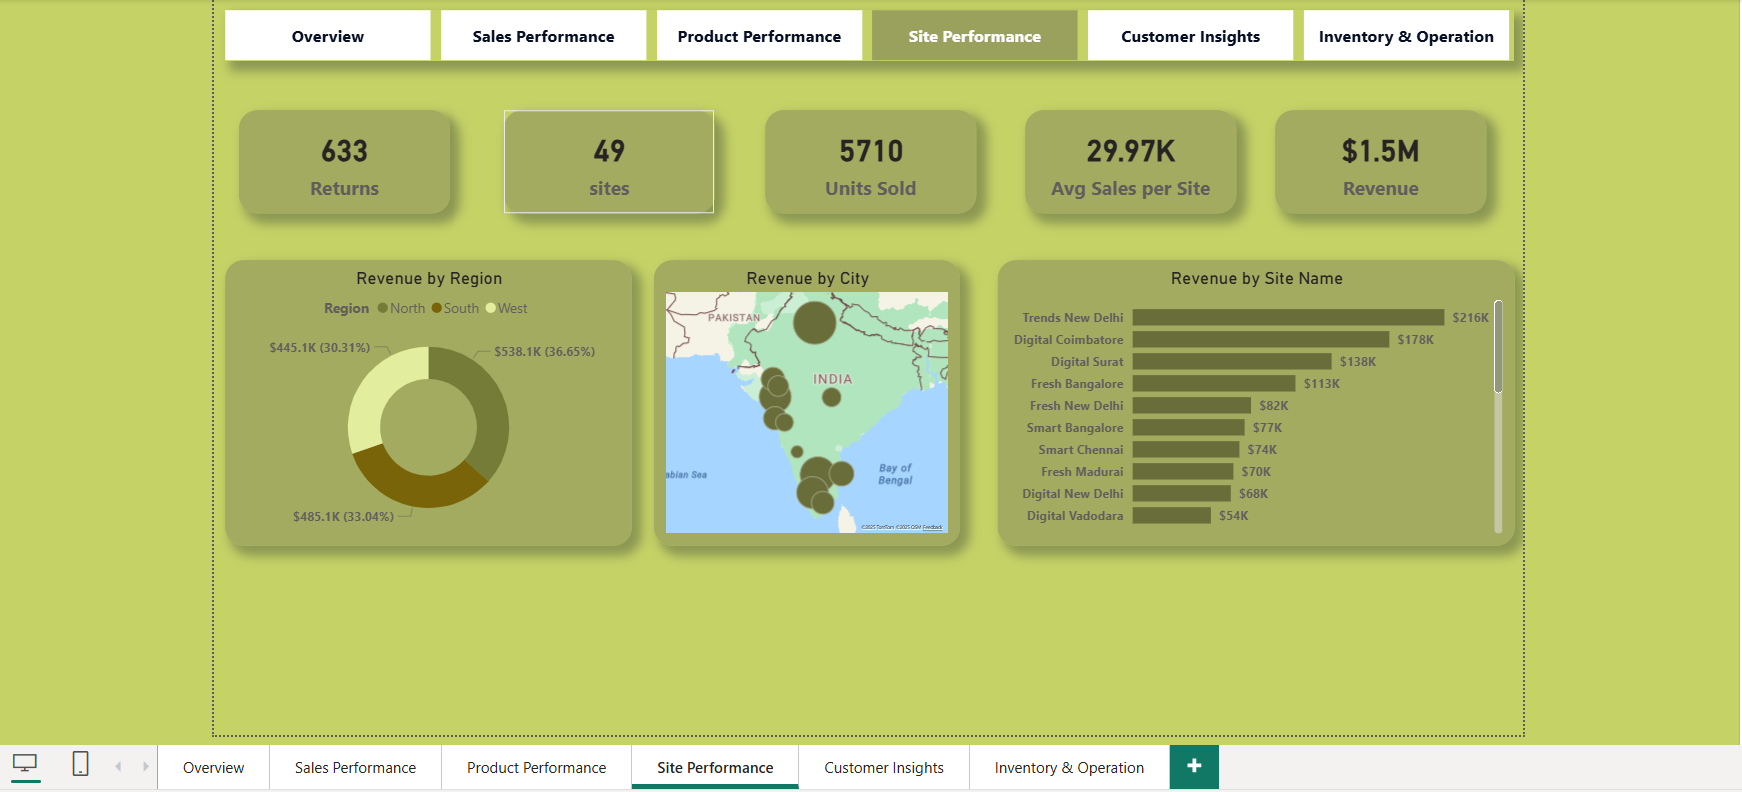

What the dashboard file says about the page in this screenshot:
{"tool":"powerbi","page":{"name":"Site Performance","canvas":[1280,720],"ordinal":3},"visuals":[{"type":"barChart","fields":{"Category":["Site_Details.Site Name"],"Y":["All Measurs.Revenue"]},"box":[766.5,255.5,506,279.4],"z":0},{"type":"azureMap","fields":{"Category":["Site_Details.City"],"Size":["All Measurs.Revenue"]},"box":[430.4,255.5,299.5,279.4],"z":1000},{"type":"donutChart","fields":{"Category":["Site_Details.Region"],"Y":["All Measurs.Revenue"]},"box":[11.3,255.5,397.7,279.4],"z":2000},{"type":"pageNavigator","box":[11,11,1261.1,49.4],"z":3000},{"type":"card","fields":{"Values":["All Measurs.Revenue","select"]},"box":[1038.3,108.2,206.4,100.7],"z":4000},{"type":"card","fields":{"Values":["All Measurs.Units Sold"]},"box":[538.7,108.2,206.4,100.7],"z":5000},{"type":"card","fields":{"Values":["All Measurs.Returns"]},"box":[23.9,108.2,206.4,100.7],"z":6000},{"type":"card","fields":{"Values":["select","All Measurs.Avg Sales per Site"]},"box":[794.2,108.2,206.4,100.7],"z":7000},{"type":"card","fields":{"Values":["All Measurs.sites"]},"box":[283.2,108.2,206.4,100.7],"z":8000}]}

Visuals, with their boxes on the page's 1280x720 design canvas (x1, y1, x2, y2). These are canvas units, not pixel positions in the 1742x792 screenshot, which may show the page scaled, cropped or inside an application window:
barChart - Site_Details.Site Name x All Measurs.Revenue: crop(766, 256, 1272, 535)
azureMap - Site_Details.City x All Measurs.Revenue: crop(430, 256, 730, 535)
donutChart - Site_Details.Region x All Measurs.Revenue: crop(11, 256, 409, 535)
pageNavigator: crop(11, 11, 1272, 60)
card - All Measurs.Revenue x select: crop(1038, 108, 1245, 209)
card - All Measurs.Units Sold: crop(539, 108, 745, 209)
card - All Measurs.Returns: crop(24, 108, 230, 209)
card - select x All Measurs.Avg Sales per Site: crop(794, 108, 1001, 209)
card - All Measurs.sites: crop(283, 108, 490, 209)
